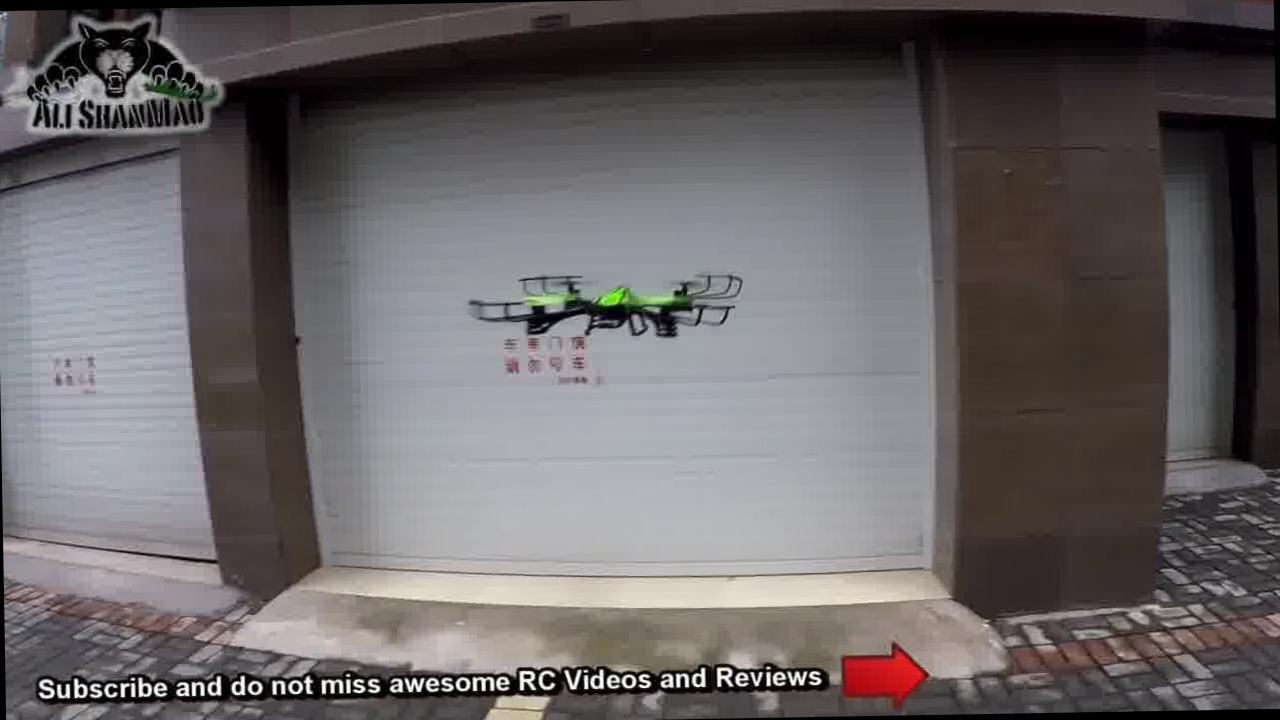drone: (492, 260, 750, 335)
